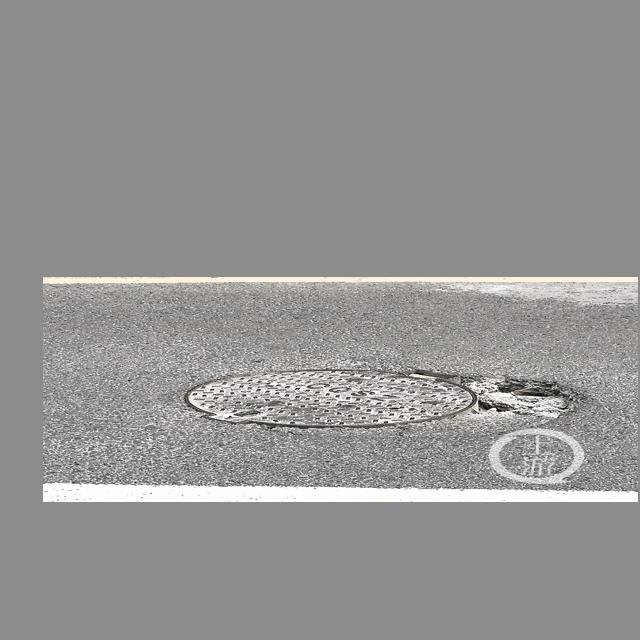circle: (178, 365, 595, 435)
